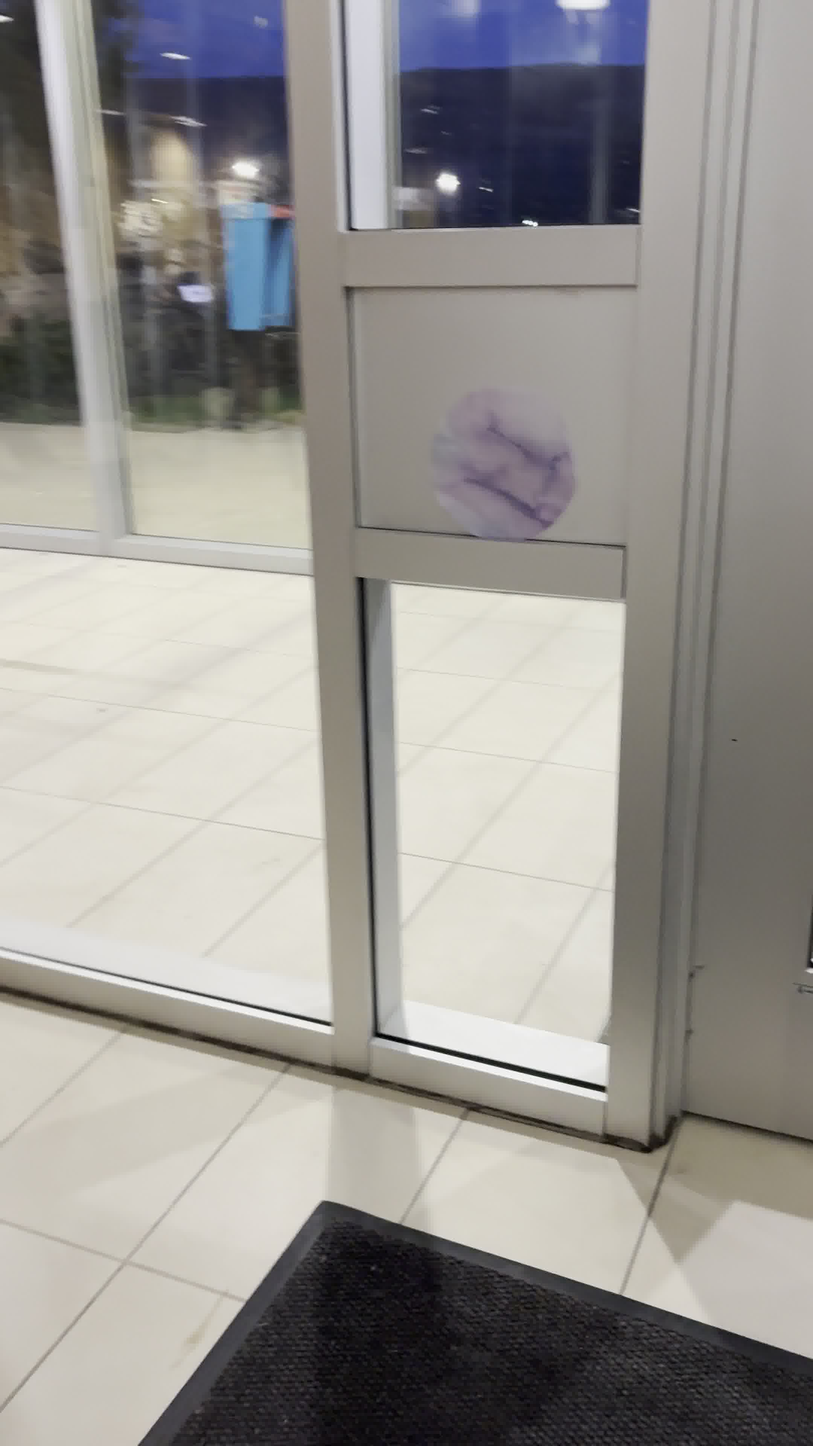Target: (427, 384, 581, 547)
